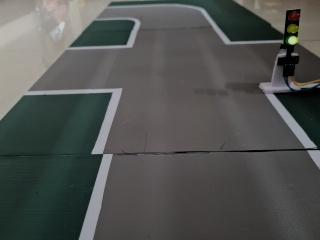green: (277, 6, 307, 58)
